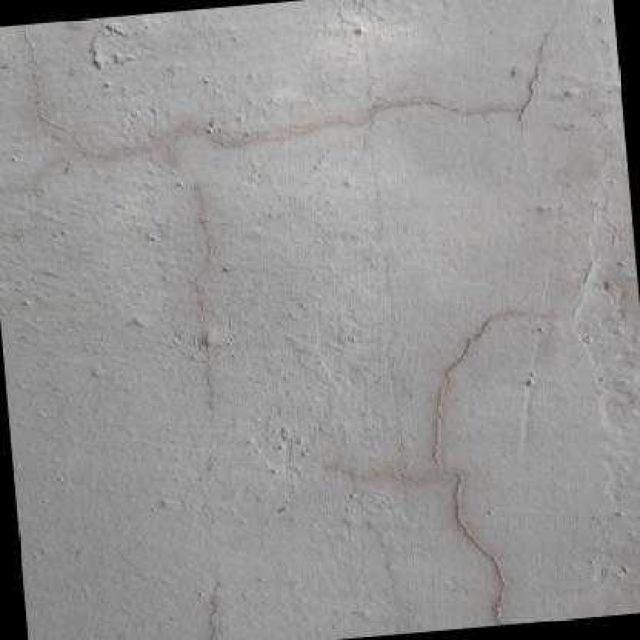D00: (17, 25, 555, 163), (423, 308, 538, 626)
